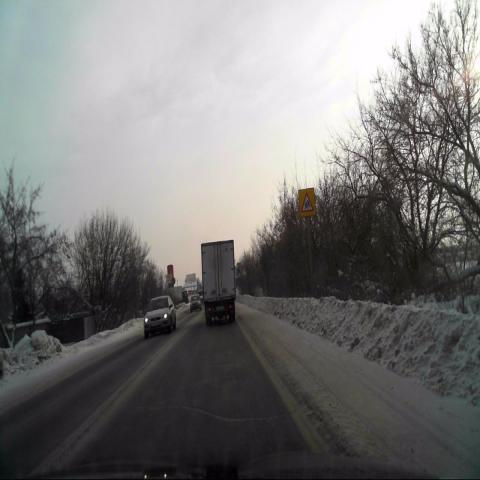1_23: (299, 188, 315, 217)
